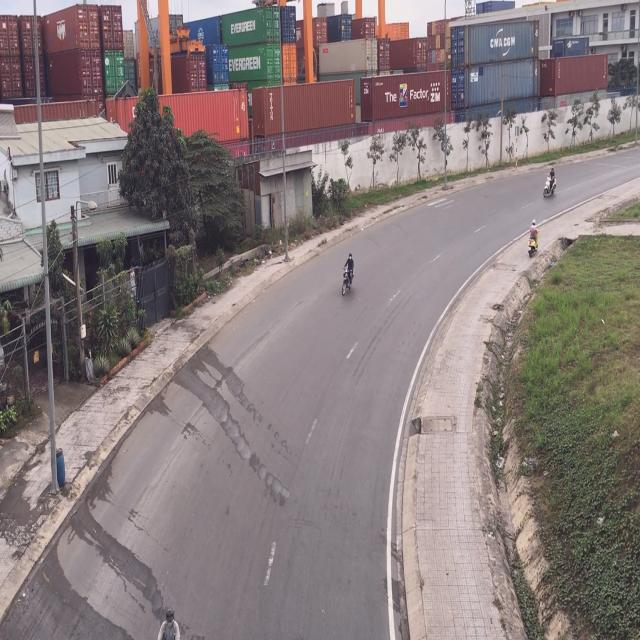motorbike: (340, 250, 357, 300), (527, 222, 541, 260), (542, 165, 557, 200)
